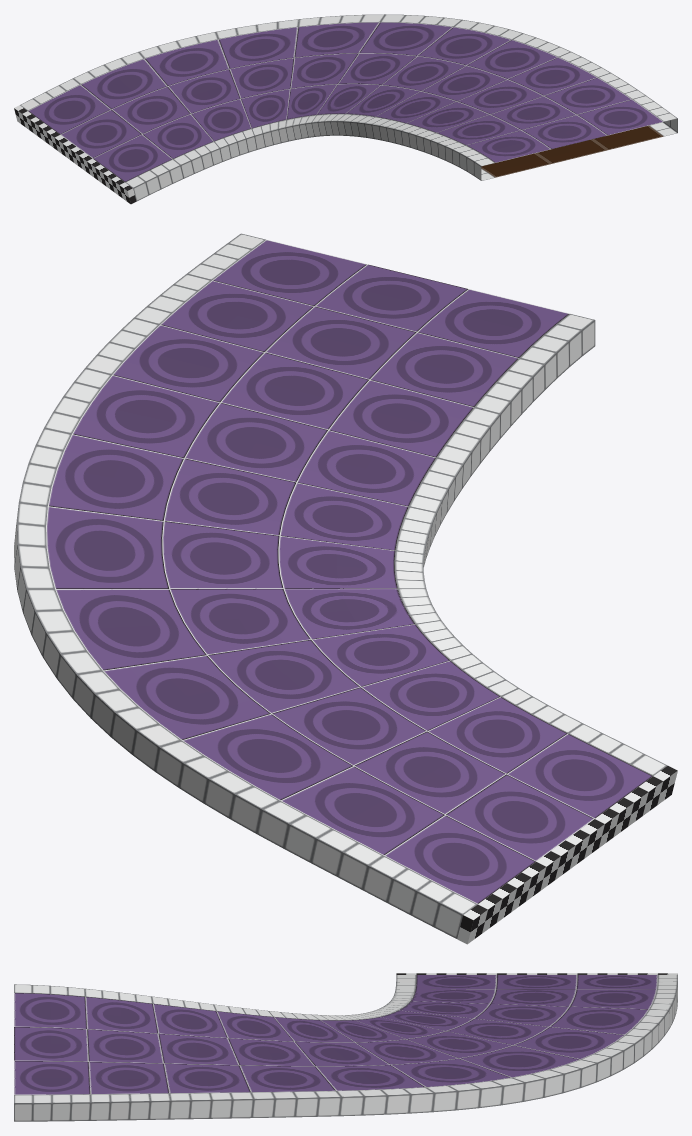
Rendered from NonLinearNewCurve2B.obj.
The picture shows the model from 3 angles, top to bottom: view 1: azimuth 30°, elevation 25°; view 2: azimuth 150°, elevation 25°; view 3: azimuth 270°, elevation 25°; orthographic projection. The views are drawn at different scales.
Visible parts, largest first — view 1: Cube.004; view 2: Cube.004; view 3: Cube.004.
Part boxes in pixels (box(x1,y1,x2,y2)): Cube.004: box(14, 14, 677, 204); Cube.004: box(14, 233, 677, 944); Cube.004: box(14, 973, 677, 1121).
Bounding box in the file's own units: 14.12 × 3.52 × 16.5.
